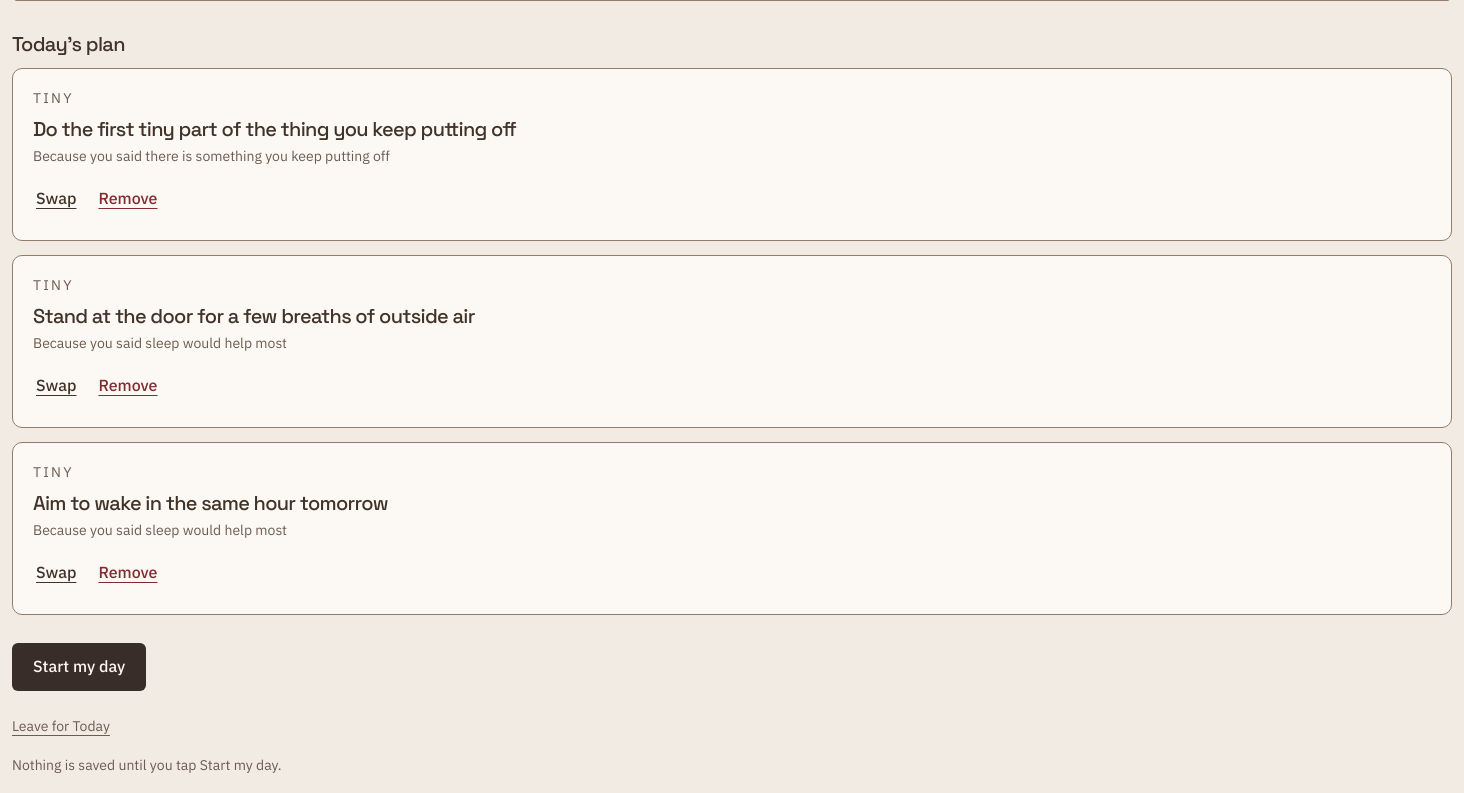
Scenario: keeps the draft on a network failure and offers recovery
(page scrolled)
Click the button "Start my day": (79, 667) x1=12 y1=643 x2=146 y2=691
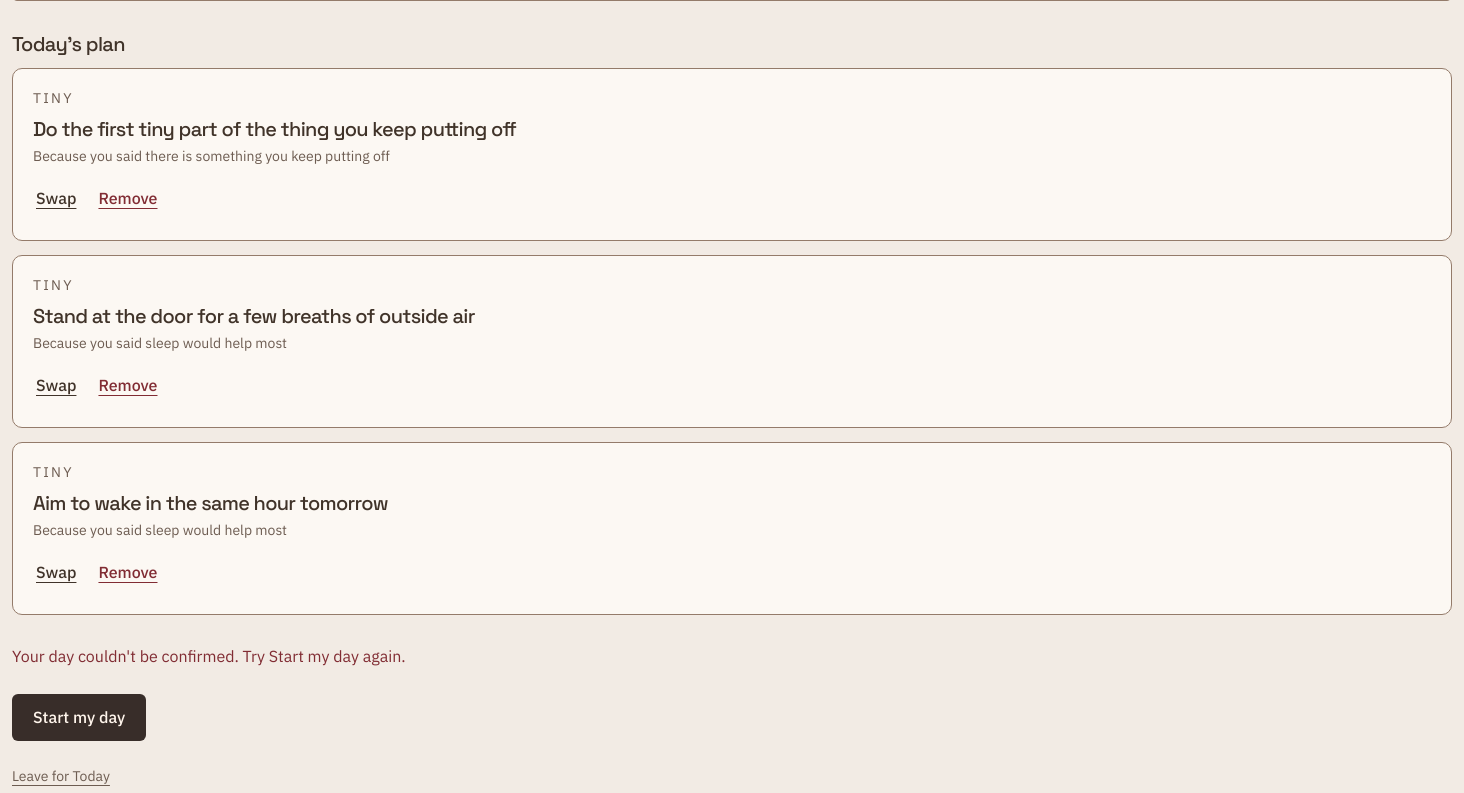
Expected: the message reads "Your day couldn't be confirmed. Try Start my day again.", x1=12 y1=646 x2=406 y2=666
